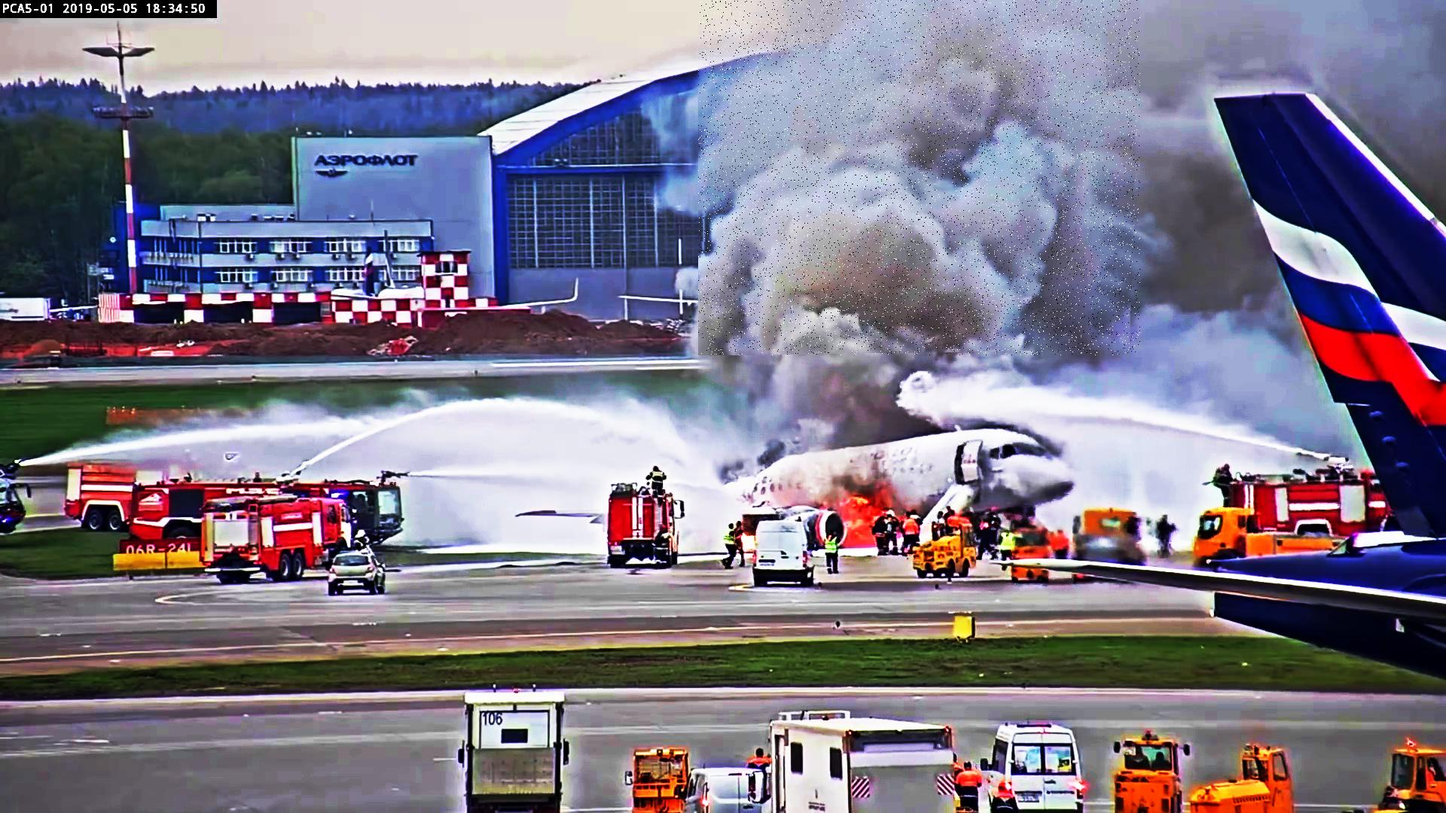smoke: (698, 0, 1140, 355)
